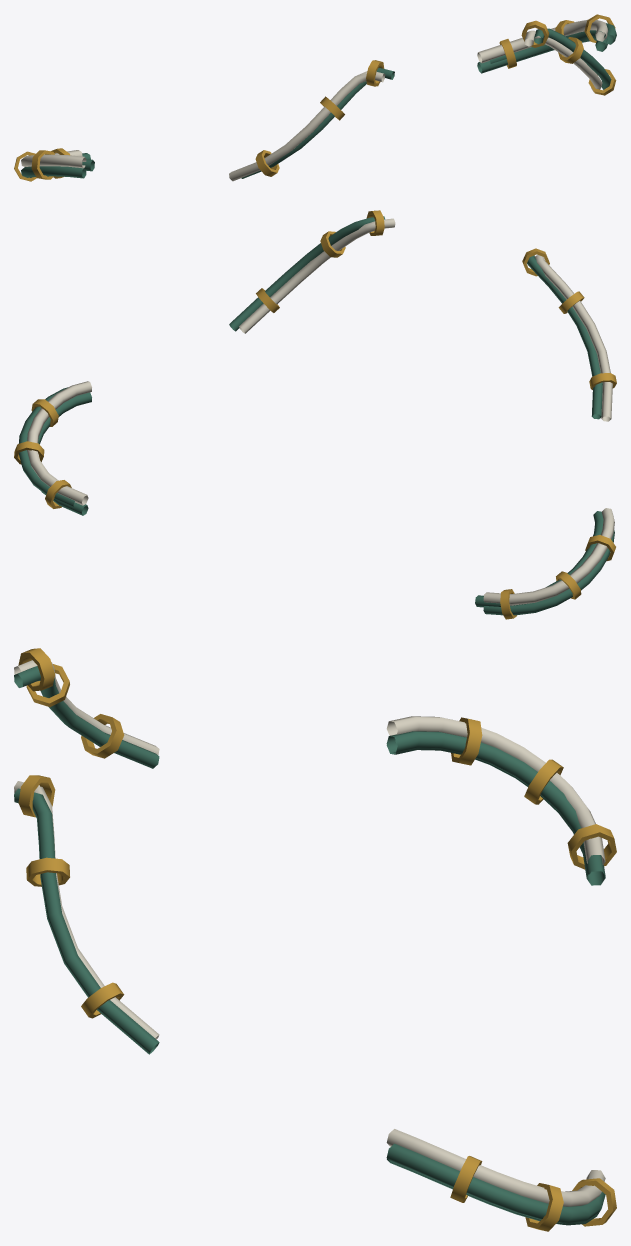
The model's file is pd3_harness.obj.
The picture shows the model from 3 angles, top to bottom: view 1: azimuth 30°, elevation 25°; view 2: azimuth 150°, elevation 25°; view 3: azimuth 270°, elevation 25°; orthographic projection. The views are drawn at different scales.
Visible parts, largest first — view 1: pd3_harness; view 2: pd3_harness; view 3: pd3_harness.
Boxes of the visible parts, x1,y1,x2,y2 form: pd3_harness: (14, 14, 616, 181); pd3_harness: (14, 210, 616, 619); pd3_harness: (14, 648, 616, 1231).
Size of the model in its own units: 1.6 by 0.5435 by 0.8872.
